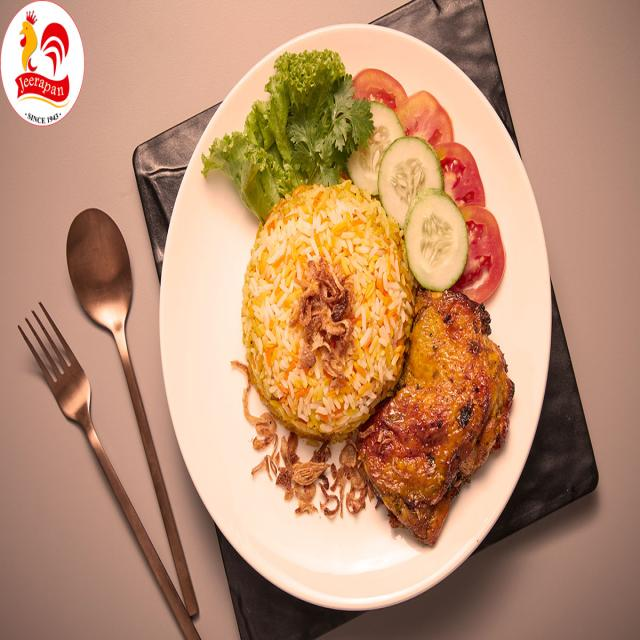Carbohydrate: (242, 182, 408, 436)
Kaow-Mokkai: (169, 19, 544, 610)
Protein: (358, 289, 518, 551)
Vegetable: (200, 44, 506, 310)
